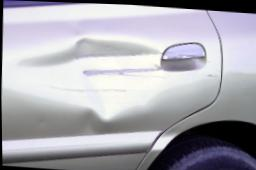Door: (3, 27, 221, 127)
